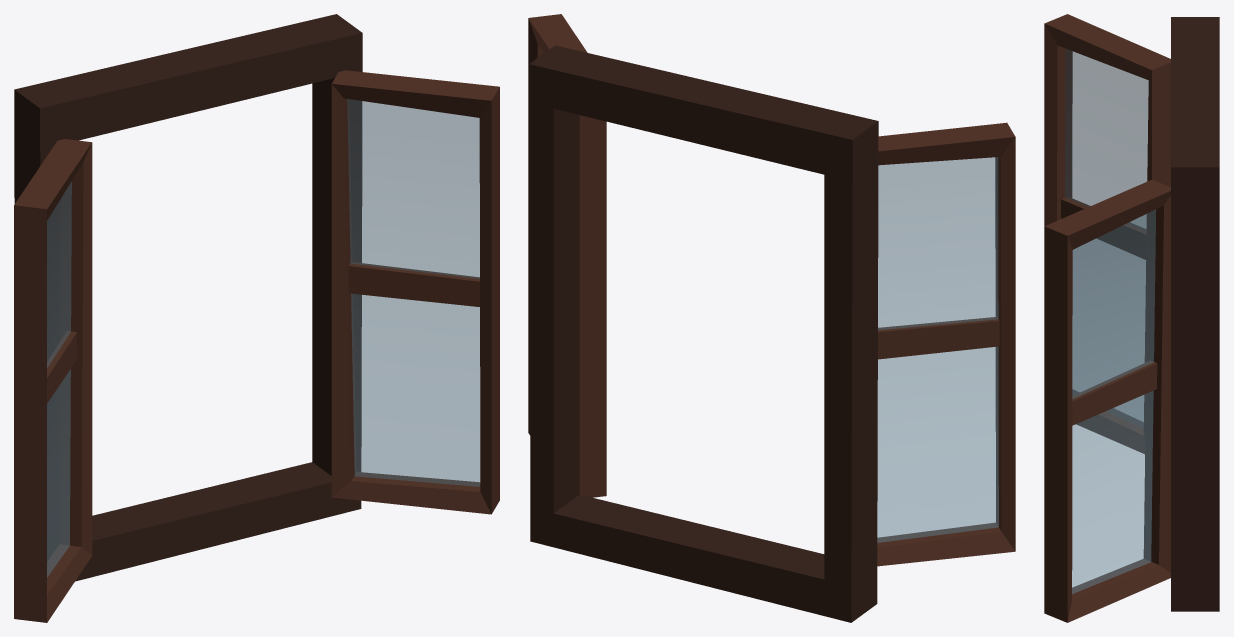
Rendered from Window 2x2 Open v1.glb.
3 renders of one model, left to right at view 1: azimuth 30°, elevation 25°; view 2: azimuth 150°, elevation 25°; view 3: azimuth 270°, elevation 25°, orthographic. The views are drawn at different scales.
Parts seen in each view (by area): view 1: Window 2x2 Open v1; view 2: Window 2x2 Open v1; view 3: Window 2x2 Open v1.
Part boxes in pixels (<box>): Window 2x2 Open v1: <box>14,14,499,622</box>; Window 2x2 Open v1: <box>528,14,1015,622</box>; Window 2x2 Open v1: <box>1044,14,1219,622</box>.
Bounding box in the file's own units: 1.74 × 1.65 × 0.5791.
2 materials, 2 textured.
